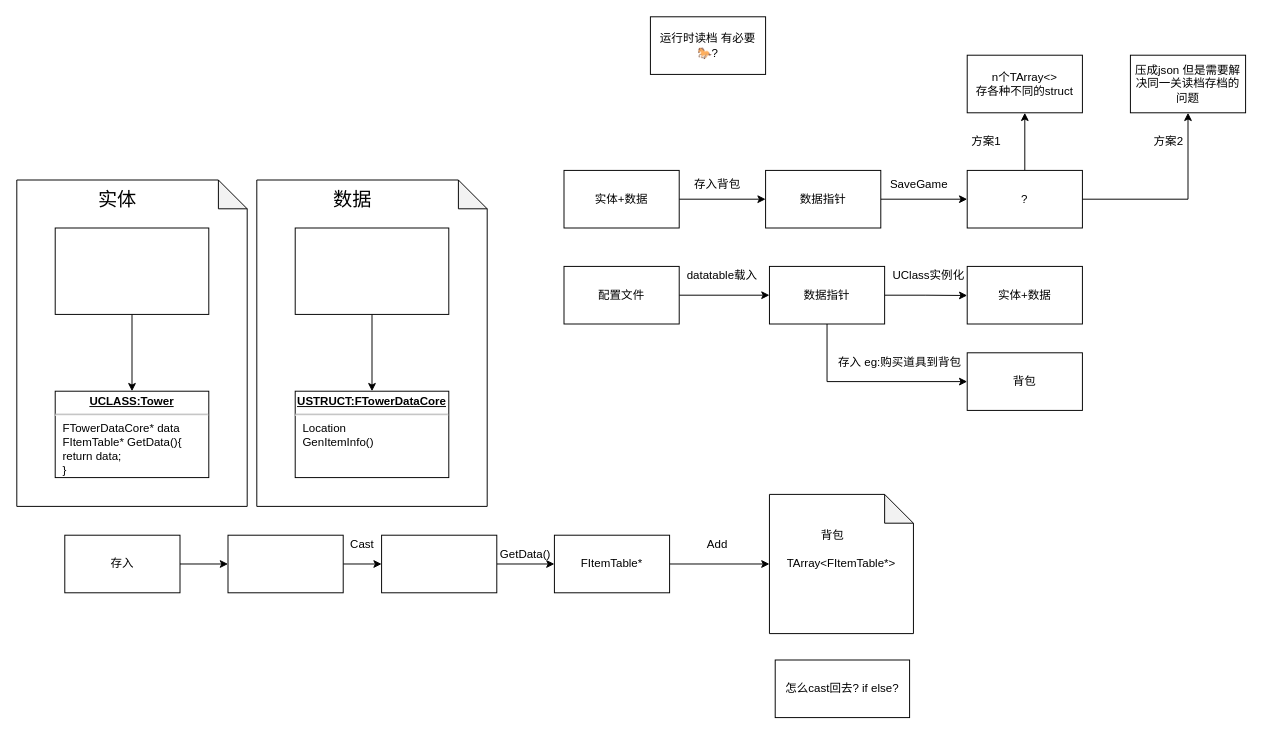
The diagram is 1262 pixels wide and 734 high, and some of its shapes have lost their labels. Each missing label, with the centre of its shape:
"IItemInterface*" goes at pixel 439 563.
"Tower*" goes at pixel 285 563.
"UINTERFACE:IItemInterface FItemTable* GetData()" goes at pixel 131 270.
"USTRUCT:FItemTable ItemId ItemNum FString GenItemInfo()" goes at pixel 371 270.
